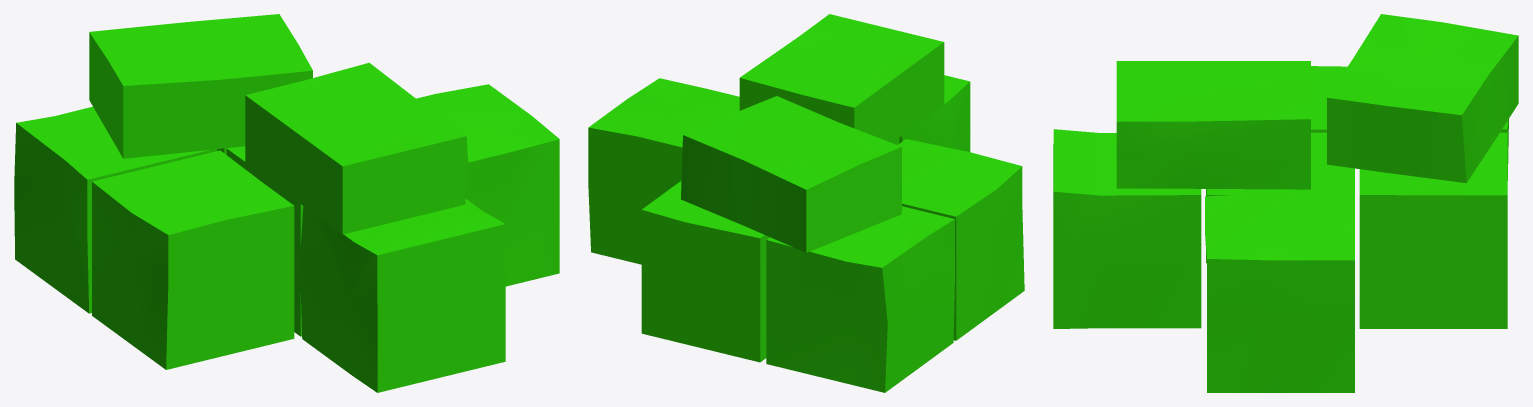
The model's file is Cardboard_Pile_07.fbx.
The picture shows the model from 3 angles, left to right: view 1: azimuth 30°, elevation 25°; view 2: azimuth 150°, elevation 25°; view 3: azimuth 270°, elevation 25°; orthographic projection. The views are drawn at different scales.
Visible parts, largest first — view 1: Cardboard_Pile_07; view 2: Cardboard_Pile_07; view 3: Cardboard_Pile_07.
Part boxes in pixels (x1,y1,x2,y2): Cardboard_Pile_07: (14, 14, 559, 392); Cardboard_Pile_07: (588, 14, 1024, 392); Cardboard_Pile_07: (1053, 14, 1518, 392).
Size of the model in its own units: 120 by 59.81 by 121.
